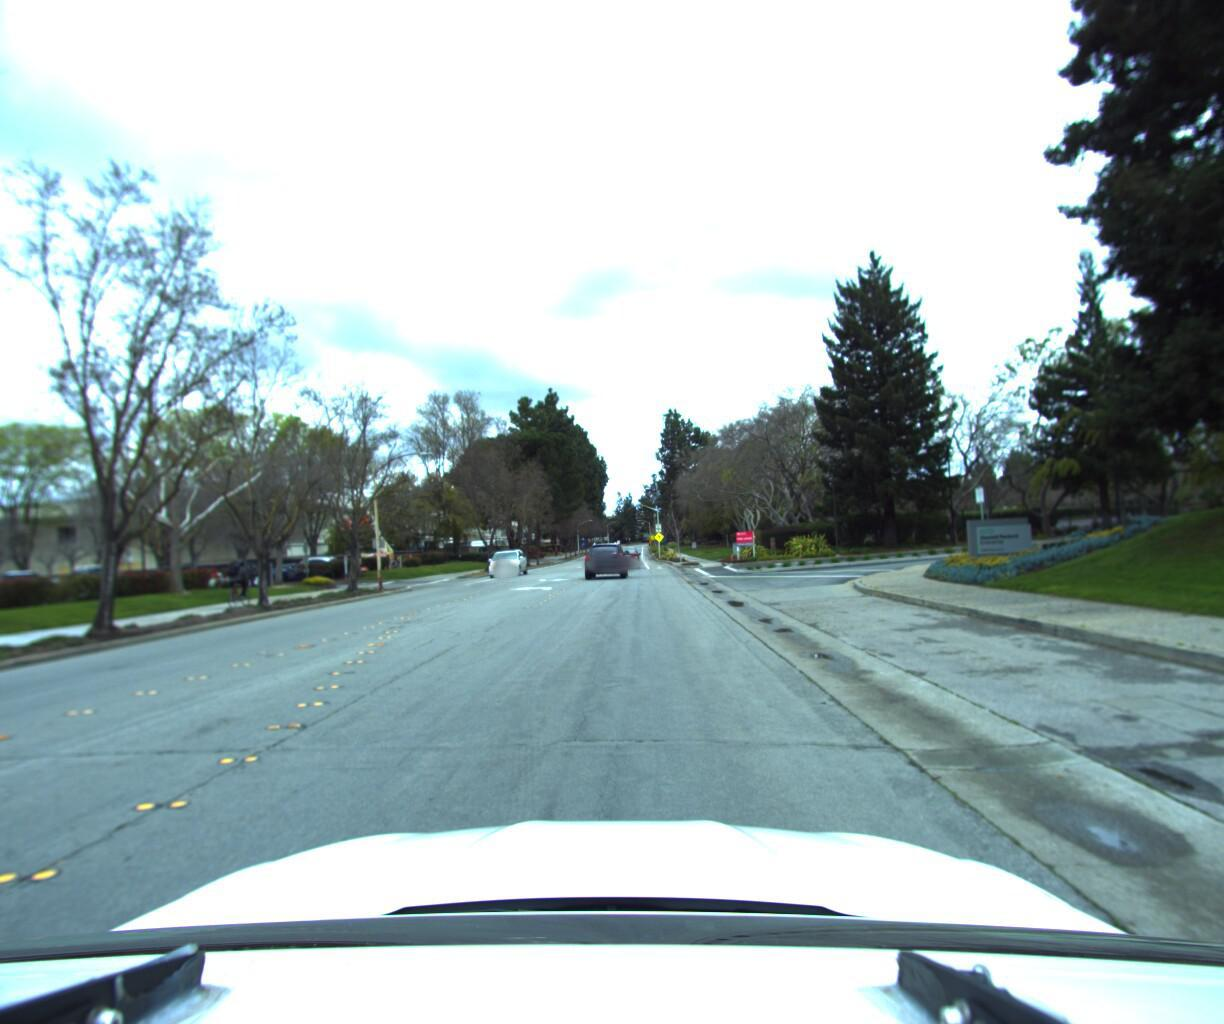bicycle: (220, 558, 262, 608)
car: (582, 534, 628, 573), (485, 545, 530, 576), (617, 540, 645, 564)
